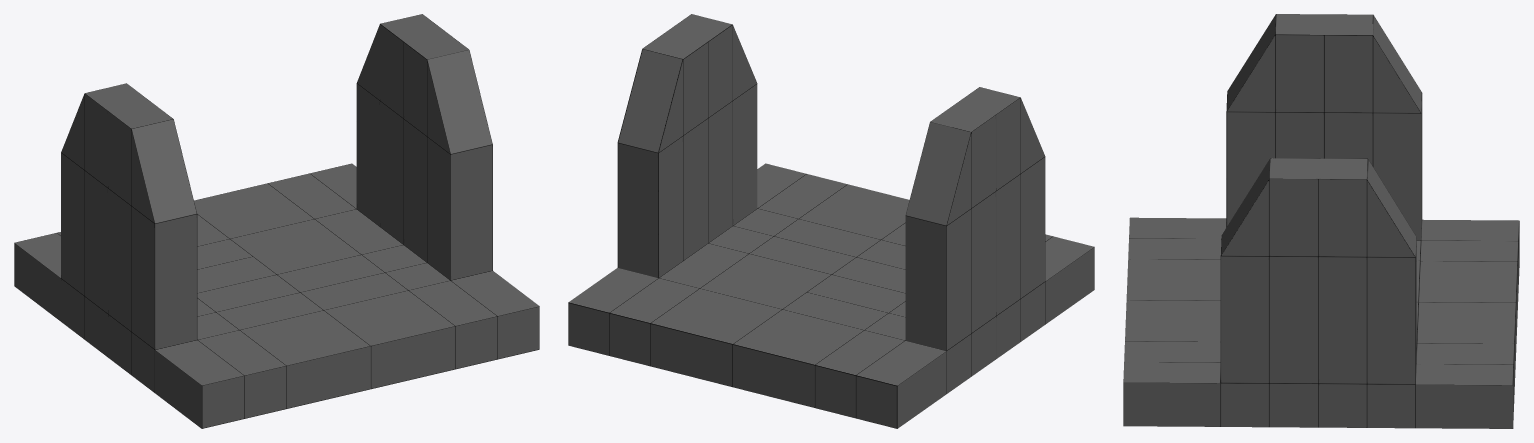
The model's file is rotating_turret.obj.
3 renders of one model, left to right at view 1: azimuth 30°, elevation 25°; view 2: azimuth 150°, elevation 25°; view 3: azimuth 270°, elevation 25°, orthographic.
Parts seen in each view (by area): view 1: rotating_turret_Cube.002; view 2: rotating_turret_Cube.002; view 3: rotating_turret_Cube.002.
Part boxes in pixels (box(x1,y1,x2,y2)): rotating_turret_Cube.002: box(14, 14, 539, 428); rotating_turret_Cube.002: box(568, 14, 1094, 428); rotating_turret_Cube.002: box(1123, 14, 1519, 428).
Bounding box in the file's own units: 2.03 × 1.41 × 2.03.
Materials: 1 (1 with a texture image).
